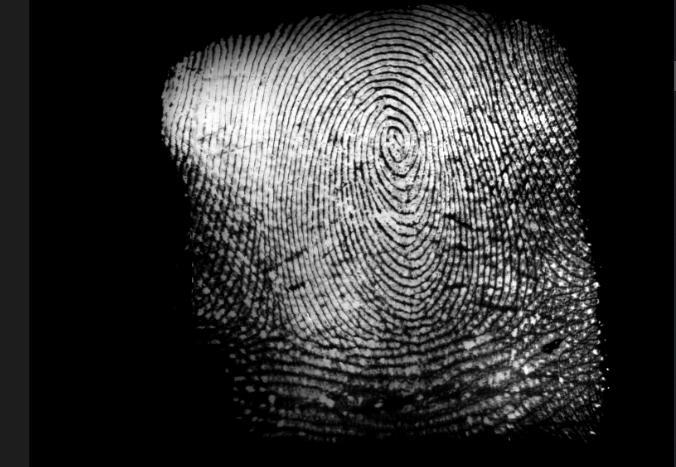nucelo: (376, 120, 410, 164)
verticilo: (261, 300, 291, 338), (536, 268, 565, 293)
